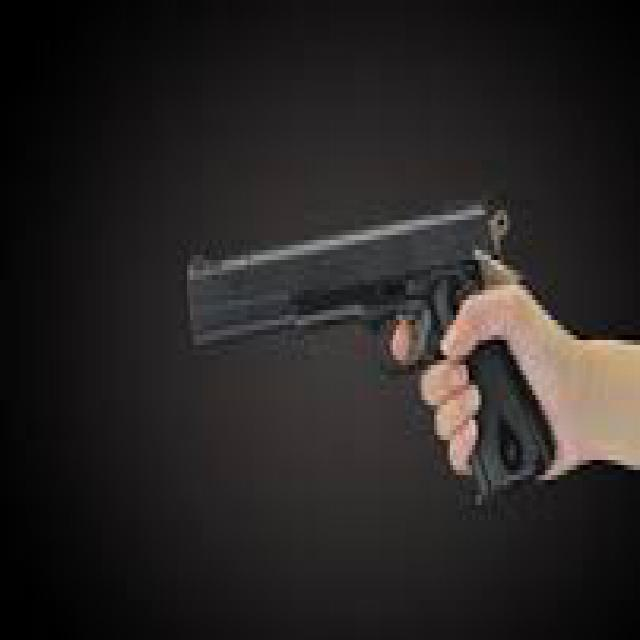handgun: (184, 155, 548, 485)
